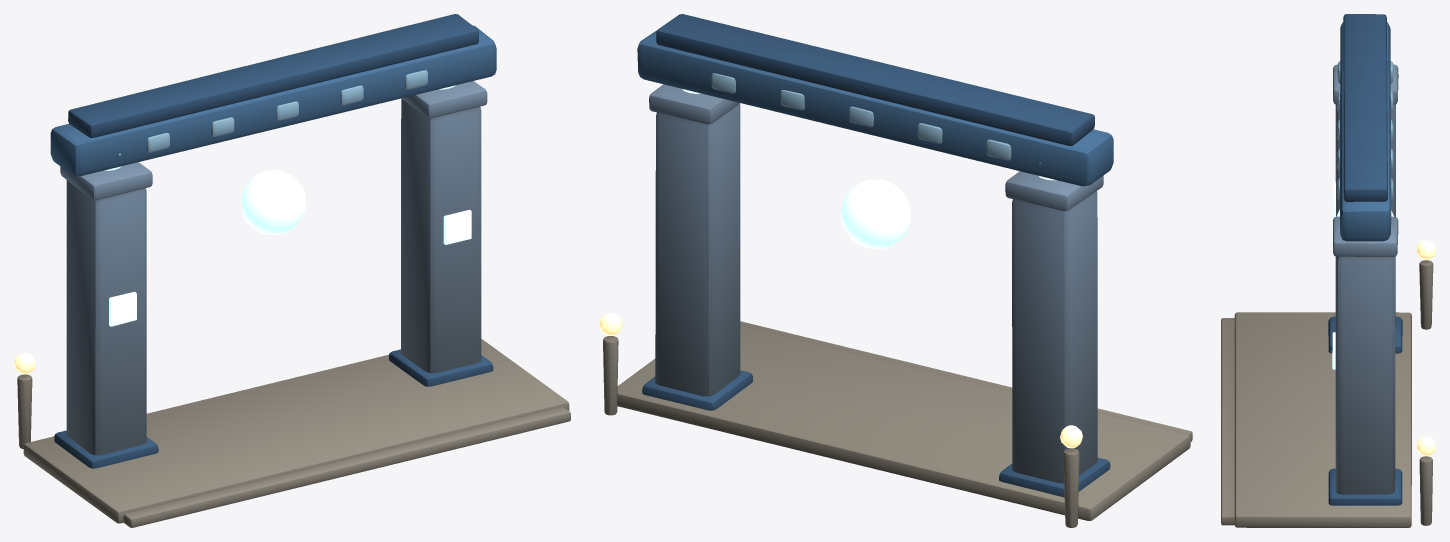
The picture shows the model from 3 angles, left to right: view 1: azimuth 30°, elevation 25°; view 2: azimuth 150°, elevation 25°; view 3: azimuth 270°, elevation 25°; orthographic projection. The views are drawn at different scales.
Parts seen in each view (by area): view 1: gate_c6fd871e; view 2: gate_c6fd871e; view 3: gate_c6fd871e.
Part boxes in pixels (x1=…): gate_c6fd871e: x1=14, y1=14, x2=570, y2=527; gate_c6fd871e: x1=599, y1=14, x2=1192, y2=527; gate_c6fd871e: x1=1221, y1=14, x2=1435, y2=527.
Size of the model in its own units: 5.76 by 4.26 by 2.54.
